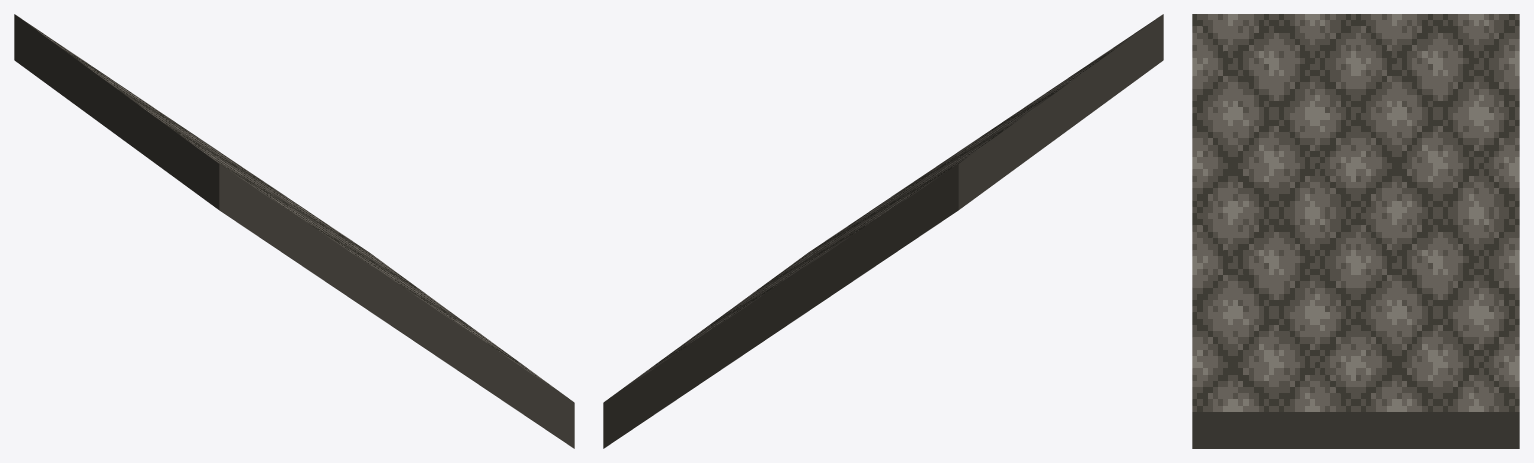
The model's file is Ramp_Steep_2.fbx.
3 views of the same model, side by side, from view 1: azimuth 30°, elevation 25°; view 2: azimuth 150°, elevation 25°; view 3: azimuth 270°, elevation 25° (orthographic). The views are drawn at different scales.
Visible parts, largest first — view 1: Ramp_Steep_2; view 2: Ramp_Steep_2; view 3: Ramp_Steep_2.
Part boxes in pixels (x1,y1,x2,y2): Ramp_Steep_2: [14, 14, 574, 448]; Ramp_Steep_2: [603, 14, 1163, 448]; Ramp_Steep_2: [1192, 14, 1519, 448].
Size of the model in its own units: 400 by 400 by 400.
Materials: 1 (1 with a texture image).
